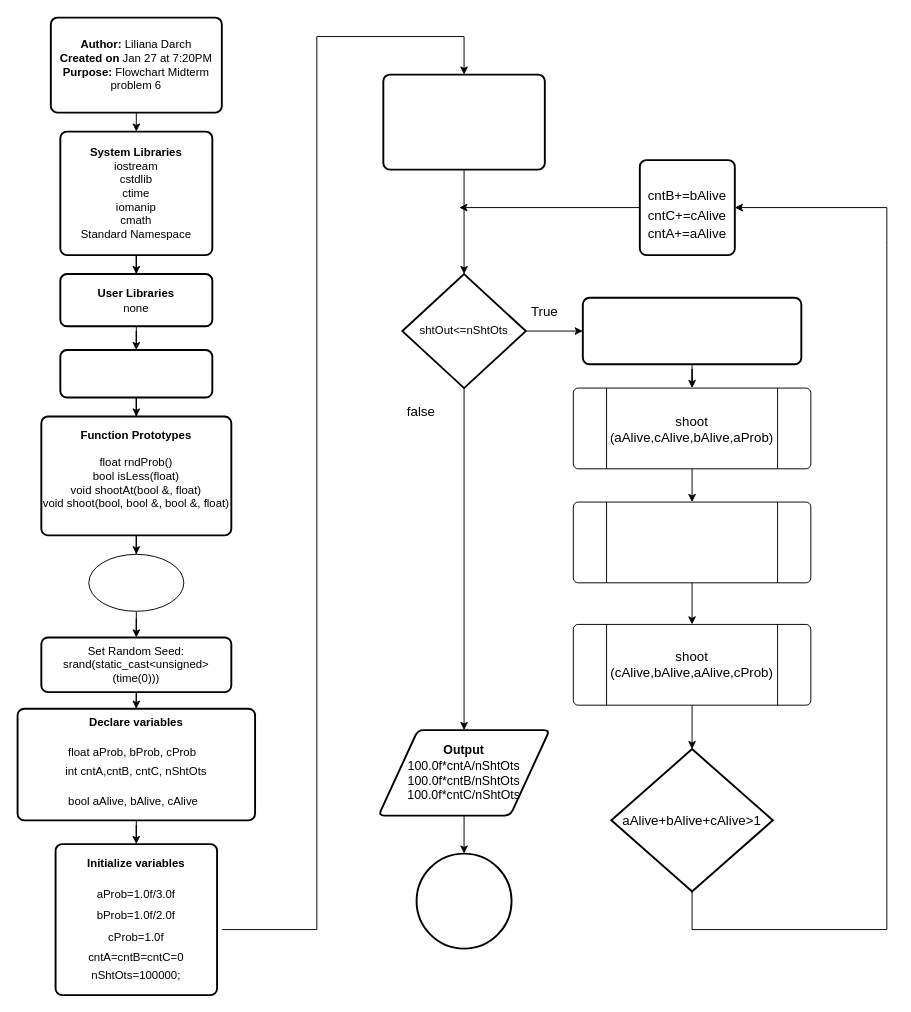
The diagram is 911 pixels wide and 1012 high, and some of its shapes have lost their labels. The shapes that lost their labels are listed below. From the top down, each one's centre as x and y in pixels, then its label:
(463,121): Declare and initialize For Loop shtOut=1
(691,330): aAlive=bAlive=cAlive =true
(136,373): Global Constants none
(691,542): shoot (bAlive,cAlive,aAlive,bProb)
(136,582): main
(463,900): return 0 Exit from main
